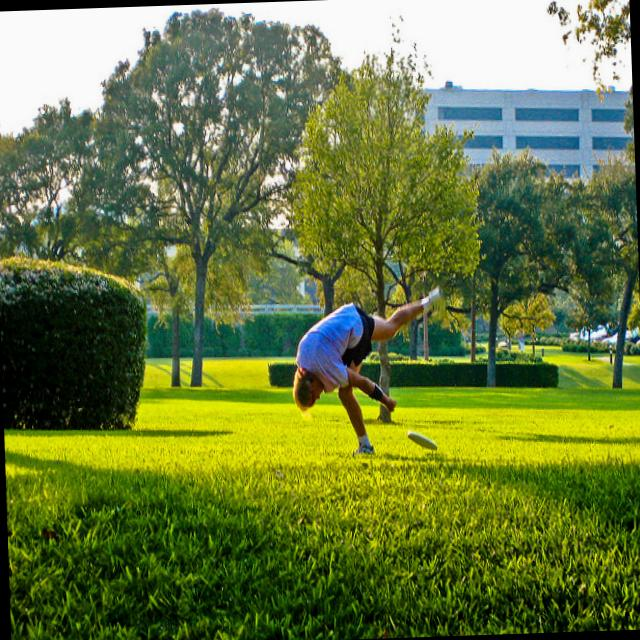Vehicle: (598, 327, 640, 343), (589, 326, 606, 342), (634, 331, 640, 352)
